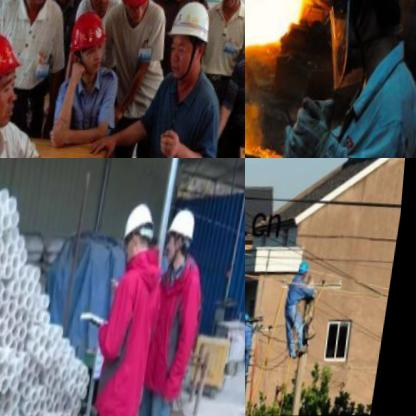helmet: (324, 0, 416, 65), (163, 0, 218, 86), (0, 30, 30, 135), (65, 12, 112, 75), (121, 202, 160, 265), (165, 207, 201, 268), (116, 0, 161, 22), (79, 0, 121, 17), (299, 259, 316, 286)
